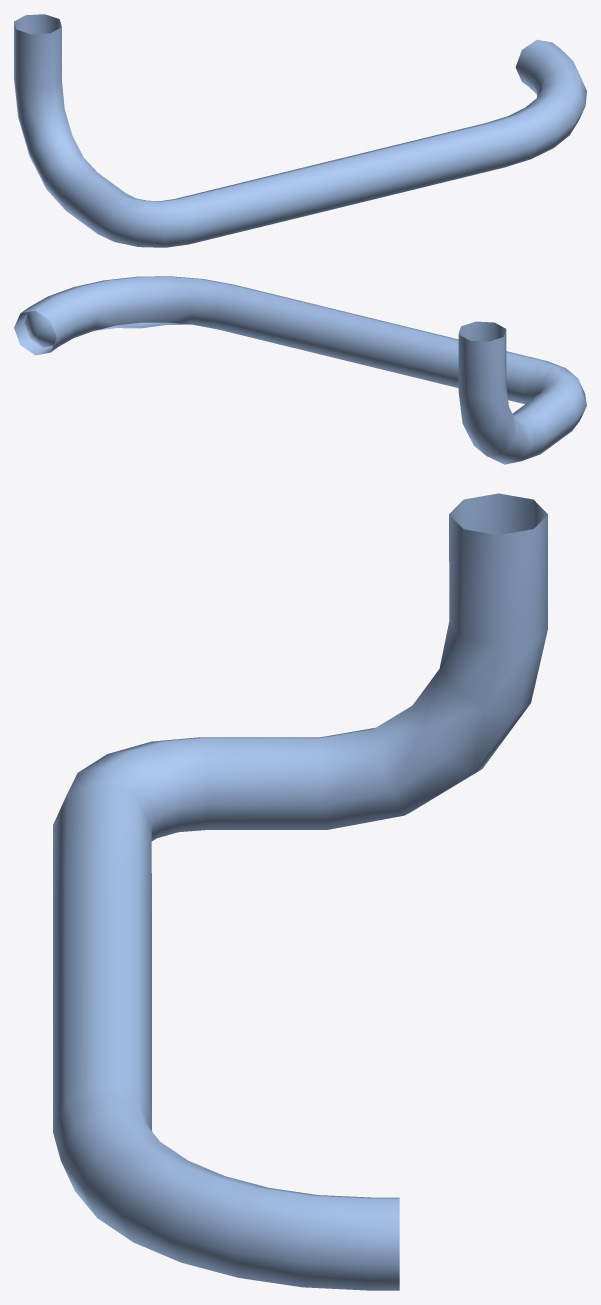
Rendered from PipeComplexSmall_B_07.fbx.
3 views of the same model, one above another, from view 1: azimuth 30°, elevation 25°; view 2: azimuth 150°, elevation 25°; view 3: azimuth 270°, elevation 25° (orthographic). The views are drawn at different scales.
Visible parts, largest first — view 1: PipeComplexSmall_B_07.001; view 2: PipeComplexSmall_B_07.001; view 3: PipeComplexSmall_B_07.001.
Part boxes in pixels (x1=…): PipeComplexSmall_B_07.001: x1=14, y1=14, x2=586, y2=247; PipeComplexSmall_B_07.001: x1=14, y1=276, x2=586, y2=464; PipeComplexSmall_B_07.001: x1=53, y1=493, x2=547, y2=1290.
Size of the model in its own units: 1.2 by 0.3505 by 0.5.
